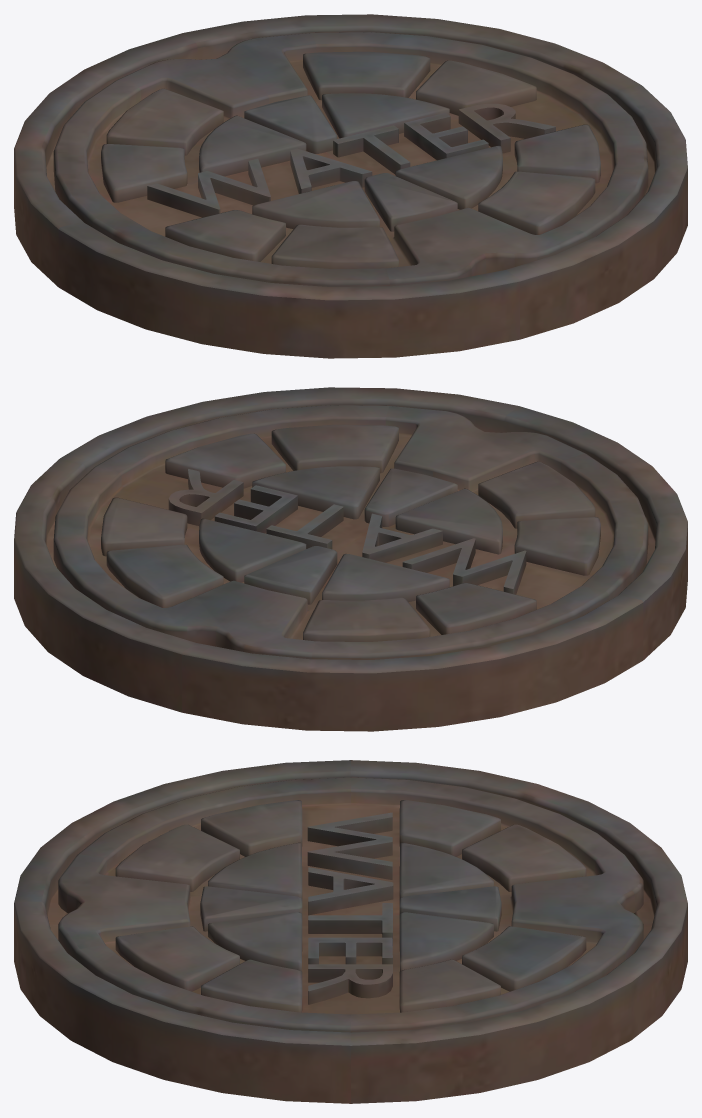
The model's file is manhole.glb.
The picture shows the model from 3 angles, top to bottom: view 1: azimuth 30°, elevation 25°; view 2: azimuth 150°, elevation 25°; view 3: azimuth 270°, elevation 25°; orthographic projection.
Visible parts, largest first — view 1: water_manhole_cover_frame; view 2: water_manhole_cover_frame; view 3: water_manhole_cover_frame.
Part boxes in pixels (x1,y1,x2,y2): water_manhole_cover_frame: [14, 14, 687, 358]; water_manhole_cover_frame: [14, 387, 687, 731]; water_manhole_cover_frame: [14, 760, 687, 1103].
Bounding box in the file's own units: 0.6908 × 0.0676 × 0.6908.
Materials: 1 (1 with a texture image).
